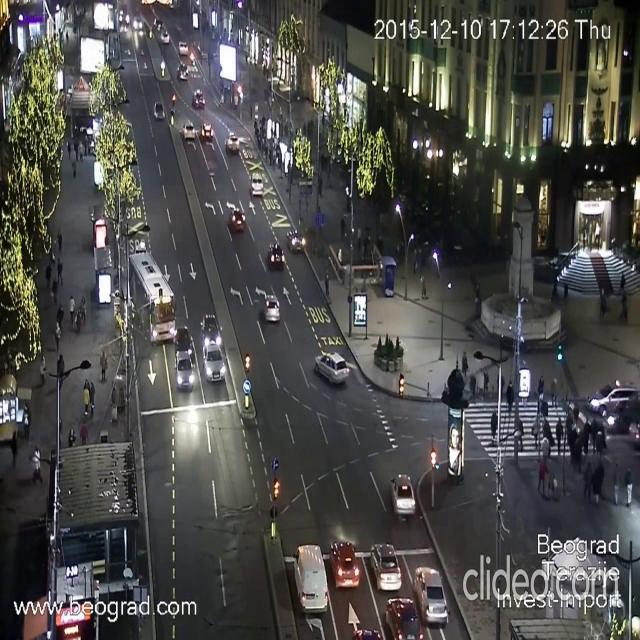bus: (128, 250, 176, 345)
car: (292, 543, 328, 613), (414, 568, 452, 624), (384, 599, 424, 640), (589, 385, 637, 417), (329, 540, 360, 588), (374, 538, 401, 586), (313, 351, 349, 385), (390, 473, 416, 518), (203, 339, 227, 382), (175, 354, 195, 392), (176, 326, 198, 358), (200, 310, 222, 342), (226, 204, 244, 232), (355, 623, 384, 640), (224, 132, 244, 156), (263, 295, 279, 323), (203, 120, 219, 148), (251, 170, 263, 207), (625, 419, 640, 448), (289, 230, 307, 252), (152, 22, 172, 40), (270, 244, 284, 268), (182, 119, 198, 140), (152, 98, 166, 121), (194, 88, 208, 108), (130, 12, 142, 34), (179, 36, 191, 54), (175, 62, 187, 79), (161, 28, 171, 46)
